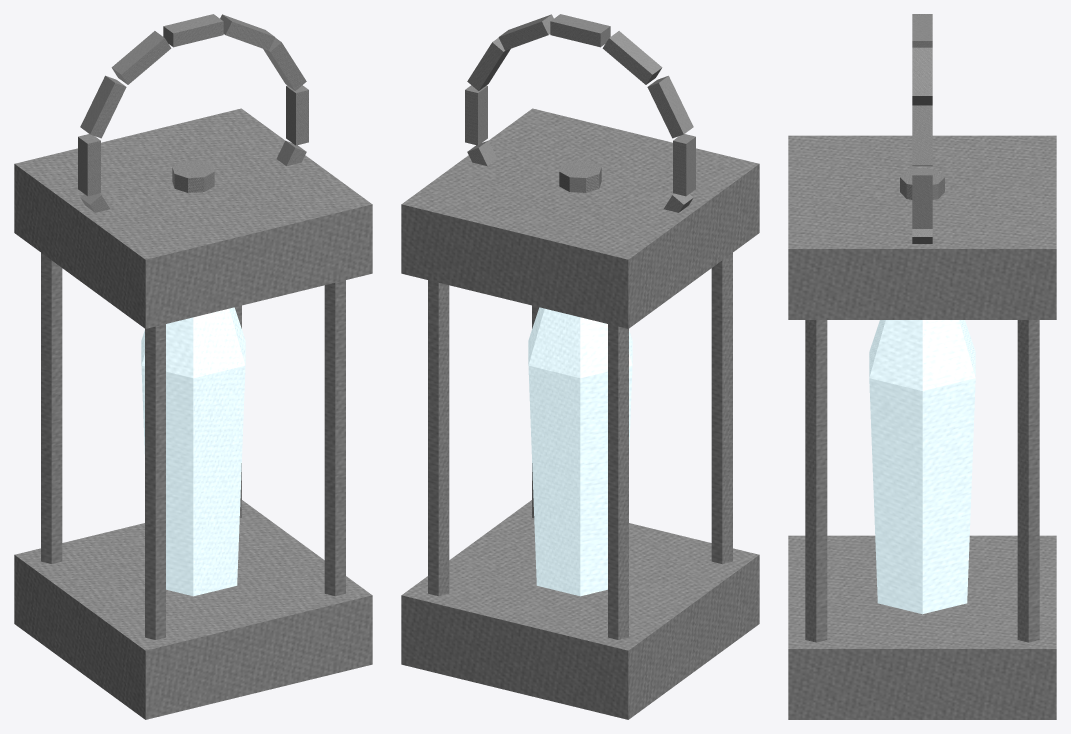
The model's file is crystal-lantern.glb.
The picture shows the model from 3 angles, left to right: view 1: azimuth 30°, elevation 25°; view 2: azimuth 150°, elevation 25°; view 3: azimuth 270°, elevation 25°; orthographic projection. The views are drawn at different scales.
Visible parts, largest first — view 1: top, base, lantern-crystal, cage-0.19-0.19, cage--0.19--0.19, cage--0.19-0.19, handle-5, handle-4, handle-3, handle-6, handle-0, handle-pin (+2 smaller); view 2: top, base, lantern-crystal, cage-0.19--0.19, cage--0.19-0.19, cage--0.19--0.19, handle-5, handle-4, handle-3, handle-6, handle-0, handle-pin (+2 smaller); view 3: top, base, lantern-crystal, cage-0.19--0.19, cage-0.19-0.19, handle-0, handle-1, handle-2, handle-3, handle-pin.
Boxes of the visible parts, bbox=[...] form: top: bbox=[14, 108, 372, 328]; base: bbox=[14, 500, 372, 719]; lantern-crystal: bbox=[141, 307, 245, 596]; cage-0.19-0.19: bbox=[324, 280, 345, 596]; cage--0.19--0.19: bbox=[41, 253, 62, 563]; cage--0.19-0.19: bbox=[145, 324, 165, 639]; handle-5: bbox=[80, 75, 126, 138]; handle-4: bbox=[111, 31, 171, 84]; handle-3: bbox=[163, 14, 223, 47]; handle-6: bbox=[78, 134, 100, 196]; handle-0: bbox=[286, 85, 308, 145]; handle-pin: bbox=[172, 160, 214, 192]; top: bbox=[401, 108, 759, 328]; base: bbox=[401, 500, 759, 719]; lantern-crystal: bbox=[528, 307, 632, 596]; cage-0.19--0.19: bbox=[428, 280, 449, 596]; cage--0.19-0.19: bbox=[711, 253, 732, 563]; cage--0.19--0.19: bbox=[608, 324, 628, 639]; handle-5: bbox=[647, 75, 693, 138]; handle-4: bbox=[602, 31, 662, 84]; handle-3: bbox=[550, 14, 610, 47]; handle-6: bbox=[673, 134, 695, 196]; handle-0: bbox=[465, 85, 487, 145]; handle-pin: bbox=[559, 160, 601, 192]; top: bbox=[788, 135, 1056, 319]; base: bbox=[788, 535, 1056, 719]; lantern-crystal: bbox=[869, 320, 975, 614]; cage-0.19--0.19: bbox=[1017, 320, 1039, 642]; cage-0.19-0.19: bbox=[805, 320, 827, 642]; handle-0: bbox=[912, 168, 932, 228]; handle-1: bbox=[912, 106, 932, 166]; handle-2: bbox=[912, 47, 932, 104]; handle-3: bbox=[912, 15, 932, 47]; handle-pin: bbox=[900, 167, 944, 199].
Size of the model in its own units: 0.48 by 1.25 by 0.48.
Materials: 3 (3 with a texture image).
